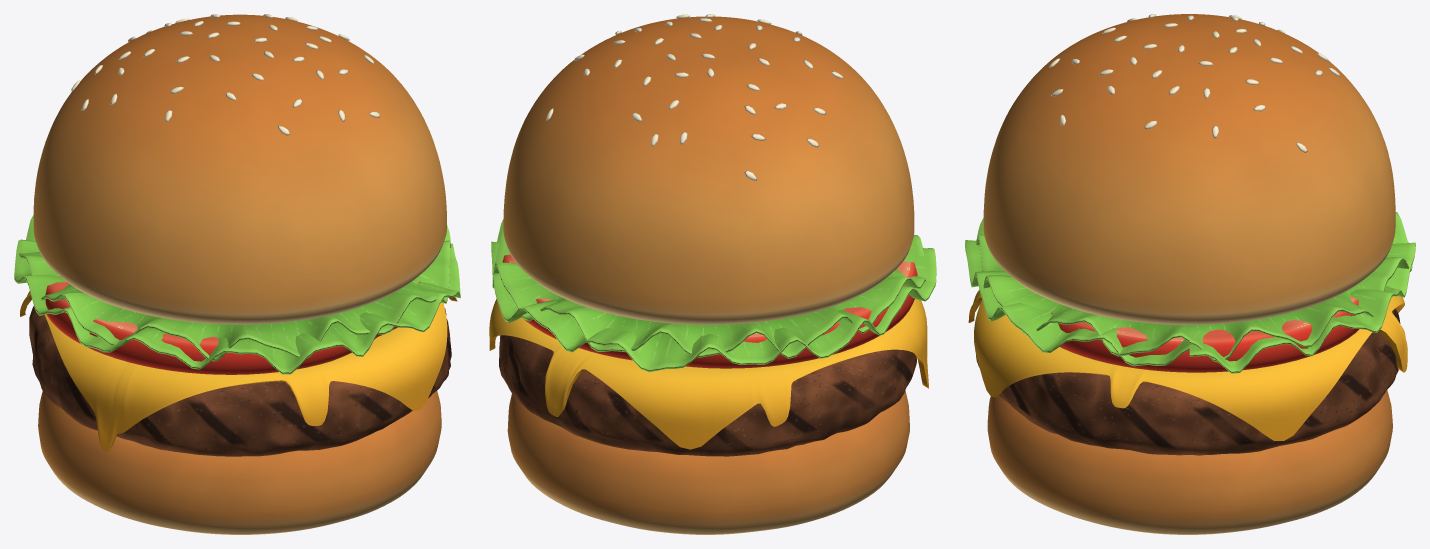
File: burger.glb
The picture shows the model from 3 angles, left to right: view 1: azimuth 30°, elevation 25°; view 2: azimuth 150°, elevation 25°; view 3: azimuth 270°, elevation 25°; orthographic projection.
Parts seen in each view (by area): view 1: burger; view 2: burger; view 3: burger.
Boxes of the visible parts, x1,y1,x2,y2 form: burger: (14,14,460,534); burger: (489,14,936,534); burger: (965,14,1415,534).
Size of the model in its own units: 0.9611 by 1.01 by 0.9714.
Materials: 6 (6 with a texture image).
